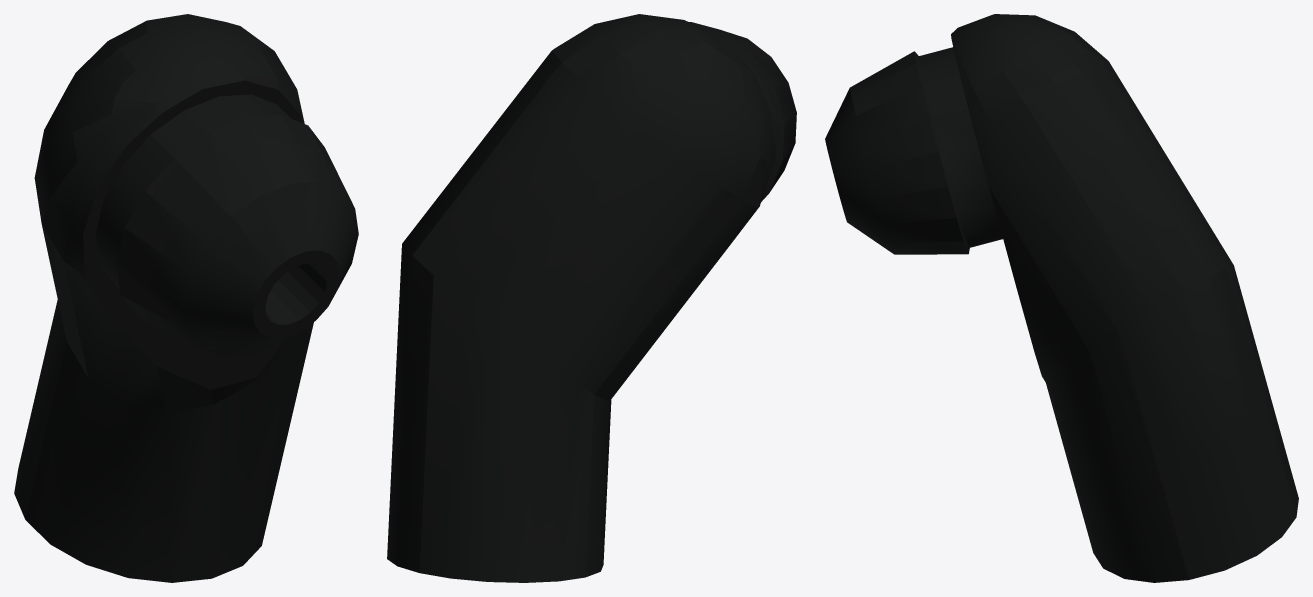
Rendered from brazo.obj.
3 views of the same model, side by side, from view 1: azimuth 30°, elevation 25°; view 2: azimuth 150°, elevation 25°; view 3: azimuth 270°, elevation 25° (orthographic). The views are drawn at different scales.
Visible parts, largest first — view 1: Cylinder01; view 2: Cylinder01; view 3: Cylinder01.
Part boxes in pixels (<box>): Cylinder01: <box>14,14,358,582</box>; Cylinder01: <box>387,14,796,582</box>; Cylinder01: <box>825,14,1298,582</box>.
Bounding box in the file's own units: 15.33 × 26.28 × 22.62.
Materials: 1 (1 with a texture image).
